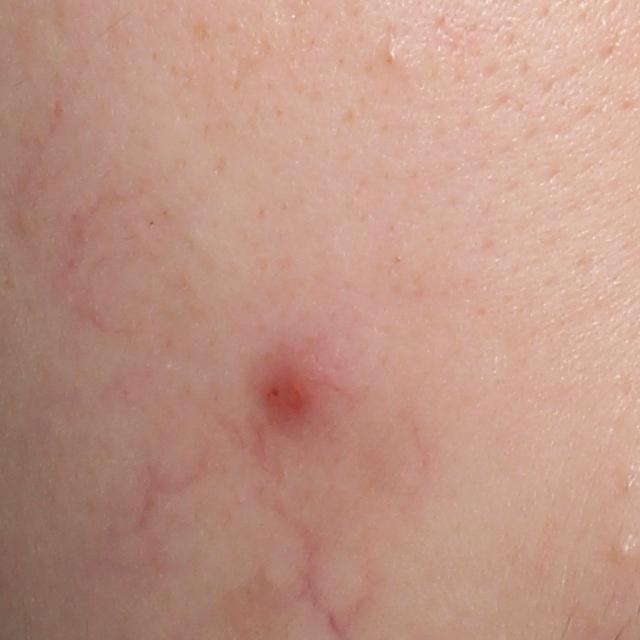comedo: (381, 43, 404, 67), (613, 537, 635, 561), (620, 476, 639, 493)
other: (4, 98, 165, 342), (112, 423, 225, 544)
